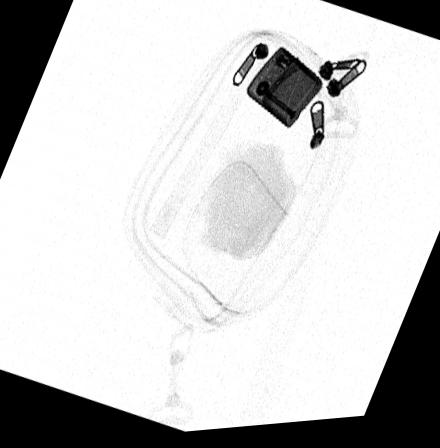Lighter: (248, 50, 323, 135)
